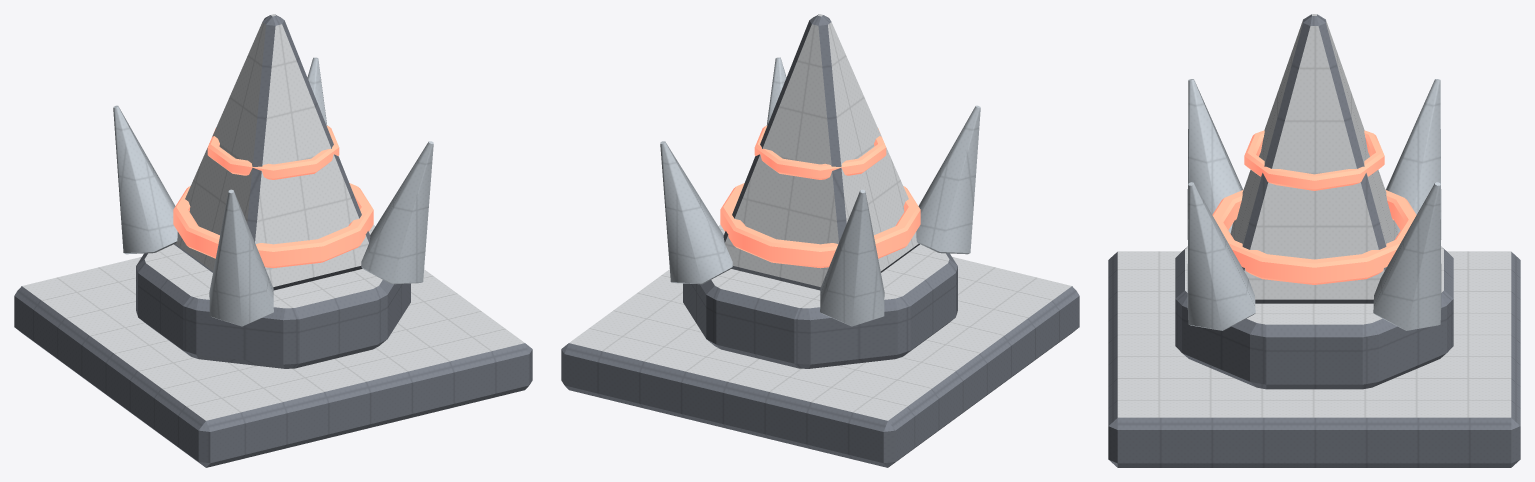
The model's file is R4X_DamageBooster_LOD1.glb.
The picture shows the model from 3 angles, left to right: view 1: azimuth 30°, elevation 25°; view 2: azimuth 150°, elevation 25°; view 3: azimuth 270°, elevation 25°; orthographic projection. The views are drawn at different scales.
Visible parts, largest first — view 1: R4X_DamageBooster_LOD1; view 2: R4X_DamageBooster_LOD1; view 3: R4X_DamageBooster_LOD1.
Boxes of the visible parts, bbox=[...] form: R4X_DamageBooster_LOD1: bbox=[14, 14, 532, 467]; R4X_DamageBooster_LOD1: bbox=[561, 14, 1079, 467]; R4X_DamageBooster_LOD1: bbox=[1108, 14, 1520, 467].
Size of the model in its own units: 0.52 by 0.515 by 0.52.
Materials: 4 (3 with a texture image).
